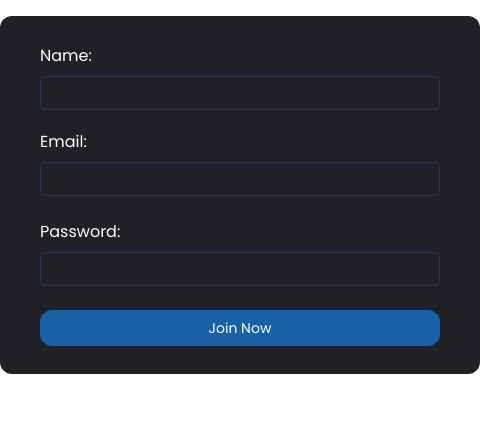
it: SignupForm › error message for invalid password
Type "1234" into the password field labelled "Password:" at (240, 269), box x1=40 y1=252 x2=440 y2=286
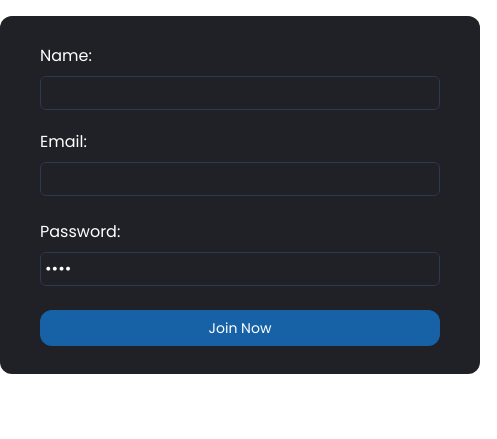
Click the button "Join Now" at (240, 328), box x1=40 y1=310 x2=440 y2=346
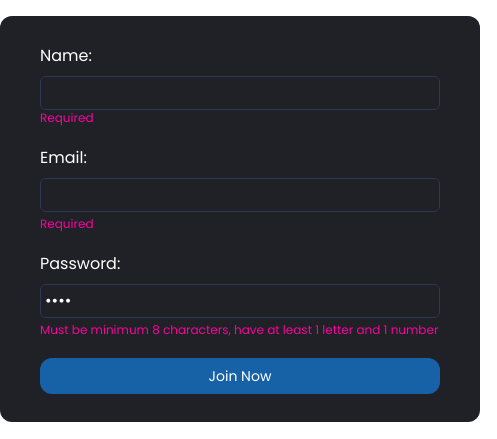
Result: the text "Must be minimum 8 characters, have at least 1 letter and 1 number" is shown at x1=40 y1=322 x2=440 y2=338
